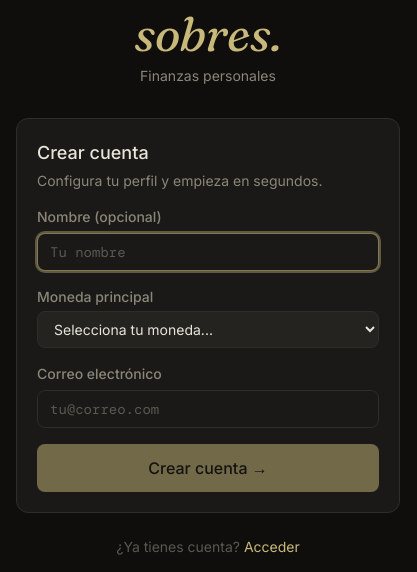
Test case: RegisterPage › shows confirmation screen after successful magic link send
The image size is (417, 572).
Select "$ USD Coin (USDC)" in the dropdown labelled "Moneda principal" at x=208, y=329, box [37,310,379,348]
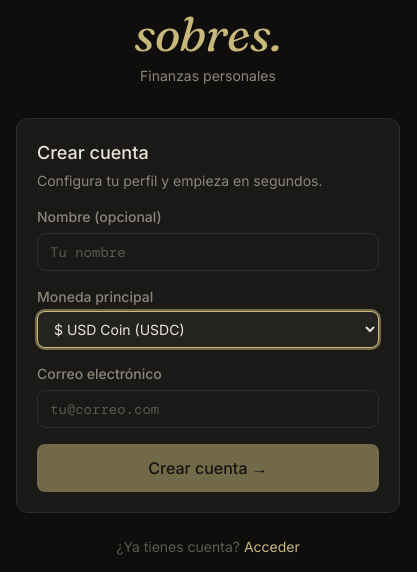
Type "user@test.com" into the field with placeholder "tu@correo.com".
click(208, 408); type("user@test.com")  # box [37,390,379,428]
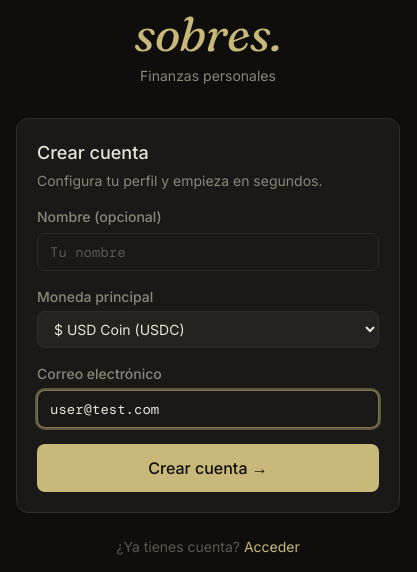
Click the button "Crear cuenta →".
click(208, 468)  # box [37,444,379,492]
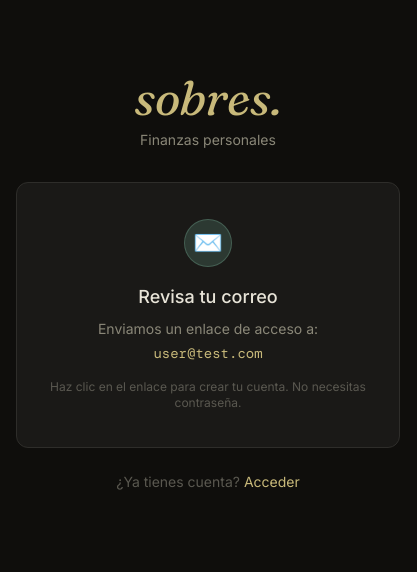
Expected: the heading "Revisa tu correo" is shown, [138,286,278,307]
